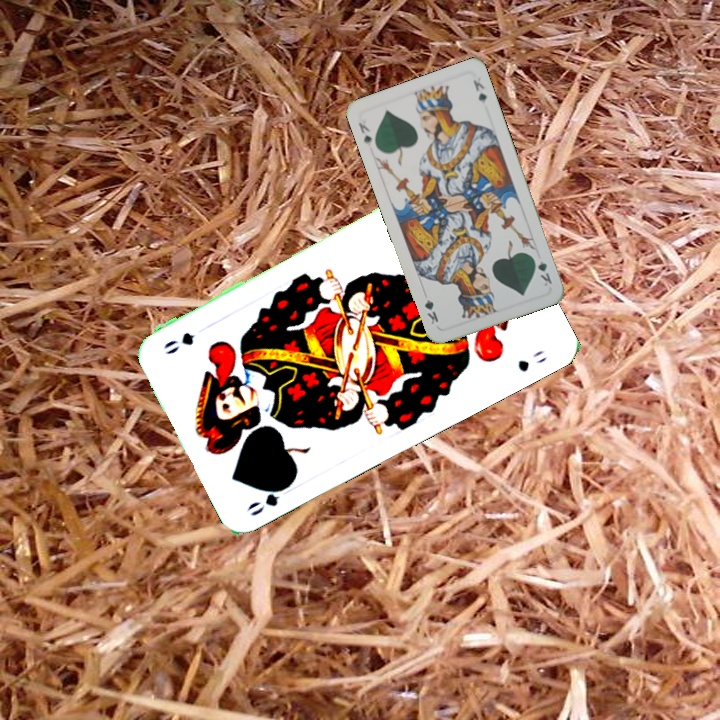GK: (529, 252, 555, 289), (354, 118, 375, 149)
GO: (243, 478, 296, 519)
